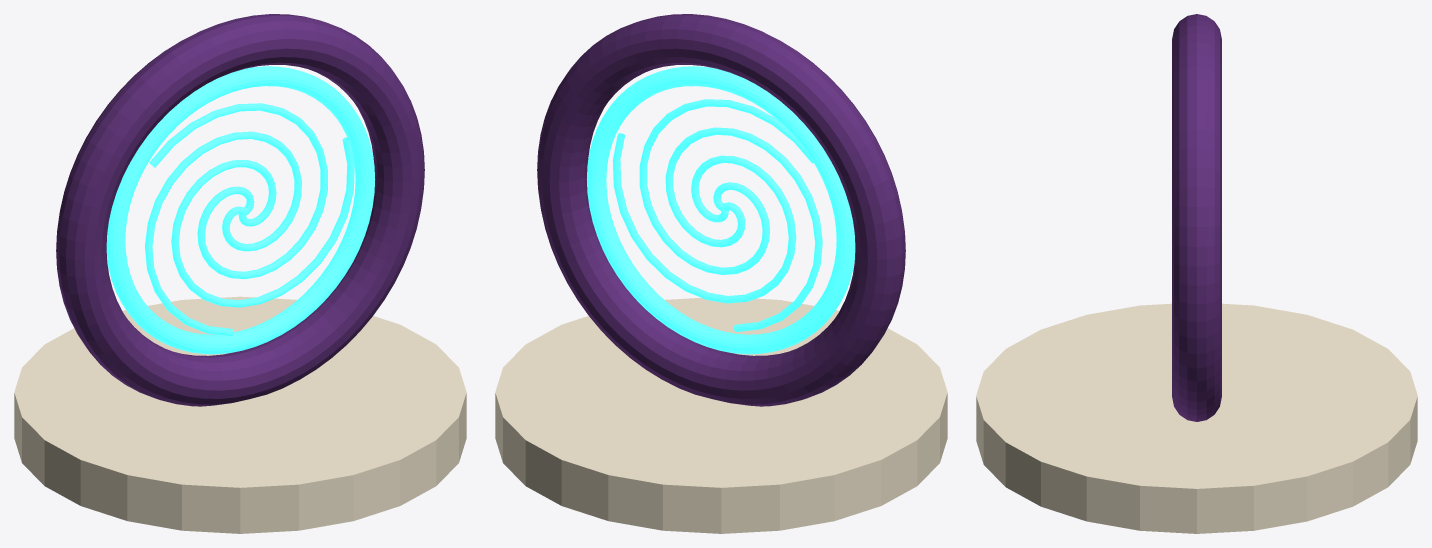
File: exit-portal.glb
3 renders of one model, left to right at view 1: azimuth 30°, elevation 25°; view 2: azimuth 150°, elevation 25°; view 3: azimuth 270°, elevation 25°, orthographic. The views are drawn at different scales.
Visible parts, largest first — view 1: portal_pedestal, portal_frame, portal_energy, portal_spiral.002, portal_spiral, portal_spiral.001; view 2: portal_pedestal, portal_frame, portal_energy, portal_spiral.002, portal_spiral.001, portal_spiral; view 3: portal_pedestal, portal_frame.
Part boxes in pixels (left/top/right/bottom): portal_pedestal: left=14, top=296, right=466, bottom=533; portal_frame: left=56, top=14, right=424, bottom=406; portal_energy: left=106, top=66, right=375, bottom=354; portal_spiral.002: left=171, top=137, right=354, bottom=307; portal_spiral: left=149, top=103, right=327, bottom=279; portal_spiral.001: left=144, top=131, right=301, bottom=336; portal_pedestal: left=495, top=298, right=947, bottom=533; portal_frame: left=537, top=14, right=905, bottom=406; portal_energy: left=586, top=66, right=855, bottom=354; portal_spiral.002: left=612, top=133, right=796, bottom=303; portal_spiral.001: left=665, top=127, right=822, bottom=331; portal_spiral: left=639, top=99, right=813, bottom=274; portal_pedestal: left=976, top=303, right=1417, bottom=533; portal_frame: left=1172, top=14, right=1221, bottom=421.
Size of the model in its own units: 1.6 by 1.63 by 1.6.
